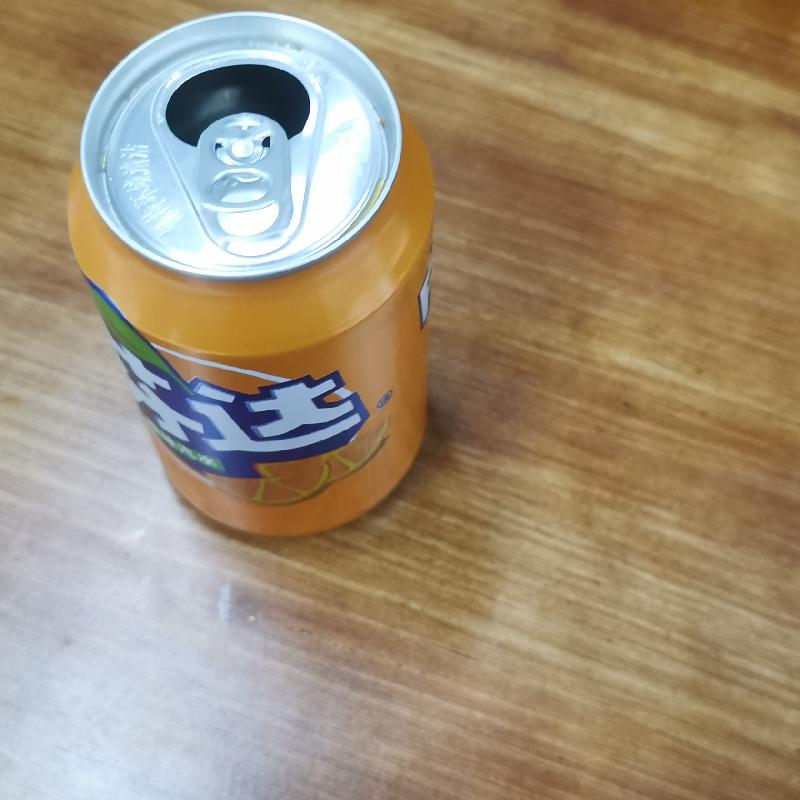cans: (62, 8, 439, 541)
